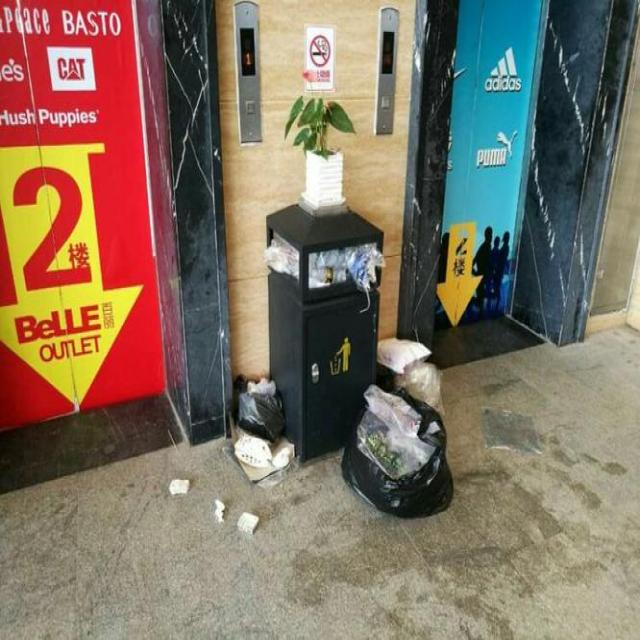garbage: (339, 336, 454, 518), (166, 373, 295, 535)
overflow: (264, 203, 384, 460)
